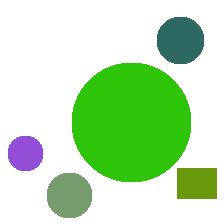circle: (72, 63, 190, 181), (157, 17, 203, 63), (47, 173, 91, 217), (8, 136, 42, 170)
rectangle: (177, 168, 216, 198)
